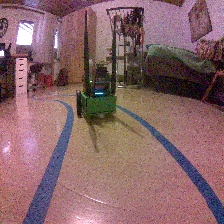rob: (74, 63, 117, 118)
